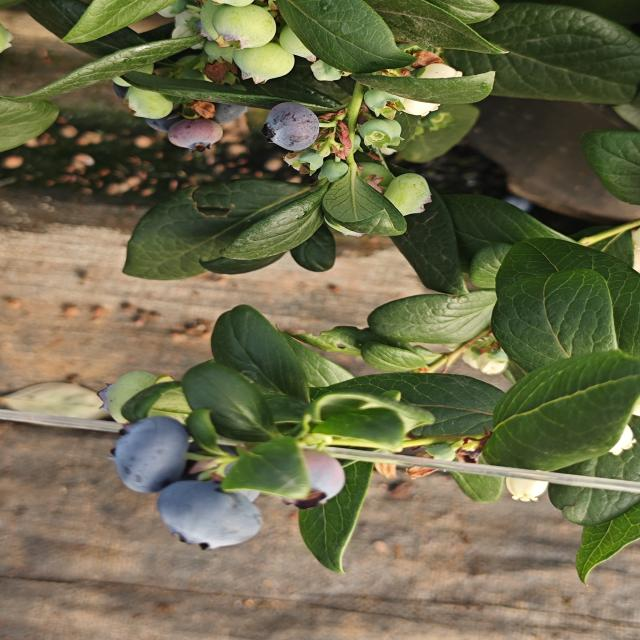ripe: (153, 477, 265, 553), (105, 414, 193, 495), (258, 100, 322, 154)
